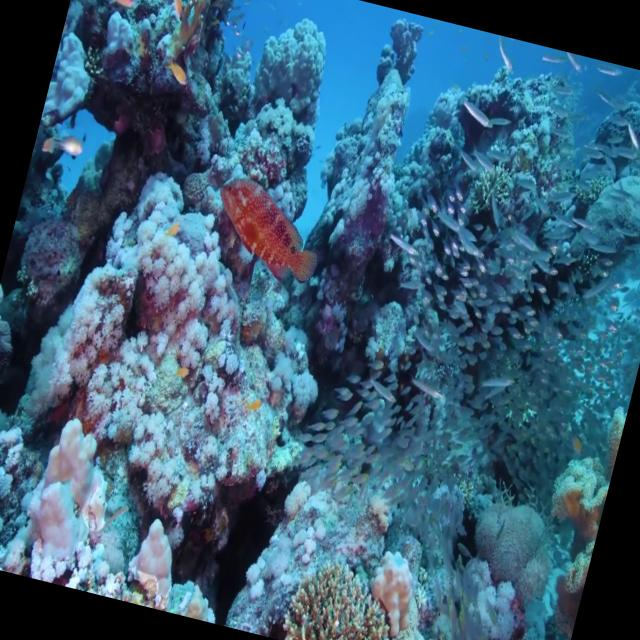fish: (201, 169, 329, 285)
